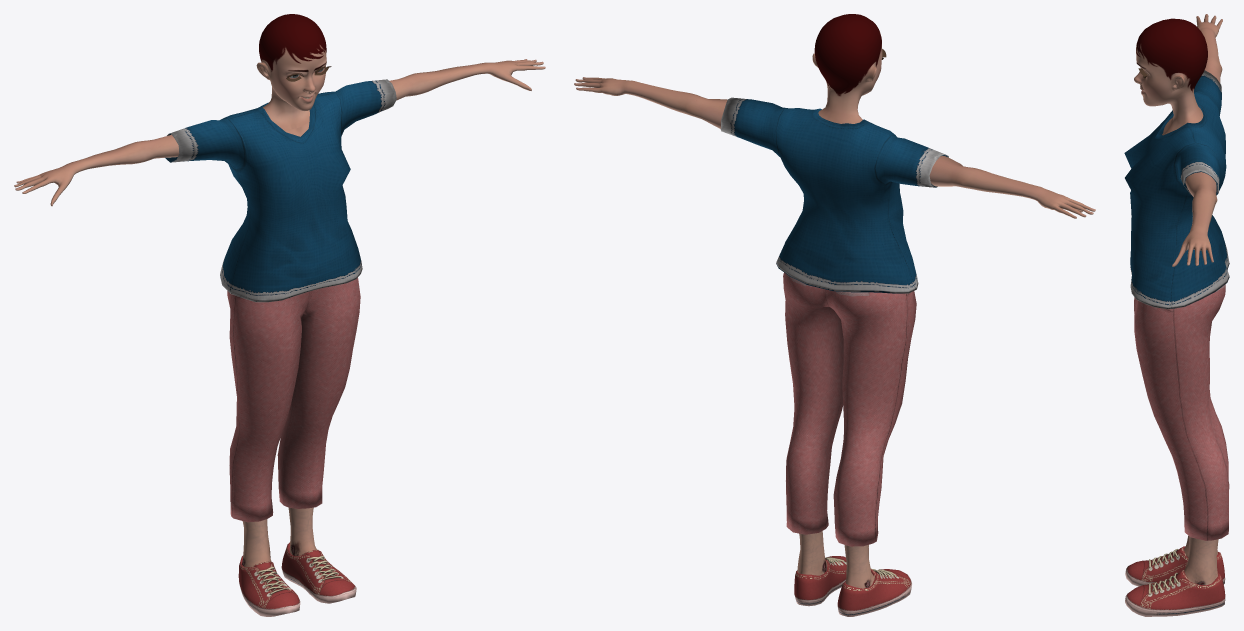
Rendered from girl.obj.
3 views of the same model, side by side, from view 1: azimuth 30°, elevation 25°; view 2: azimuth 150°, elevation 25°; view 3: azimuth 270°, elevation 25° (orthographic).
Parts seen in each view (by area): view 1: Tops, Bottoms, Body, Shoes; view 2: Bottoms, Tops, Body, Shoes; view 3: Tops, Bottoms, Body, Shoes.
Boxes of the visible parts, x1,y1,x2,y2 form: Tops: (165,79,396,302); Bottoms: (227,277,360,522); Body: (14,14,545,567); Shoes: (238,542,356,616); Bottoms: (783,272,916,546); Tops: (720,97,948,293); Body: (574,14,1095,588); Shoes: (794,556,911,616); Tops: (1124,70,1229,309); Bottoms: (1134,284,1229,540); Body: (1134,14,1222,585); Shoes: (1125,546,1225,616).
Size of the model in its own units: 169 by 178 by 29.65.
2 materials, 2 textured.
